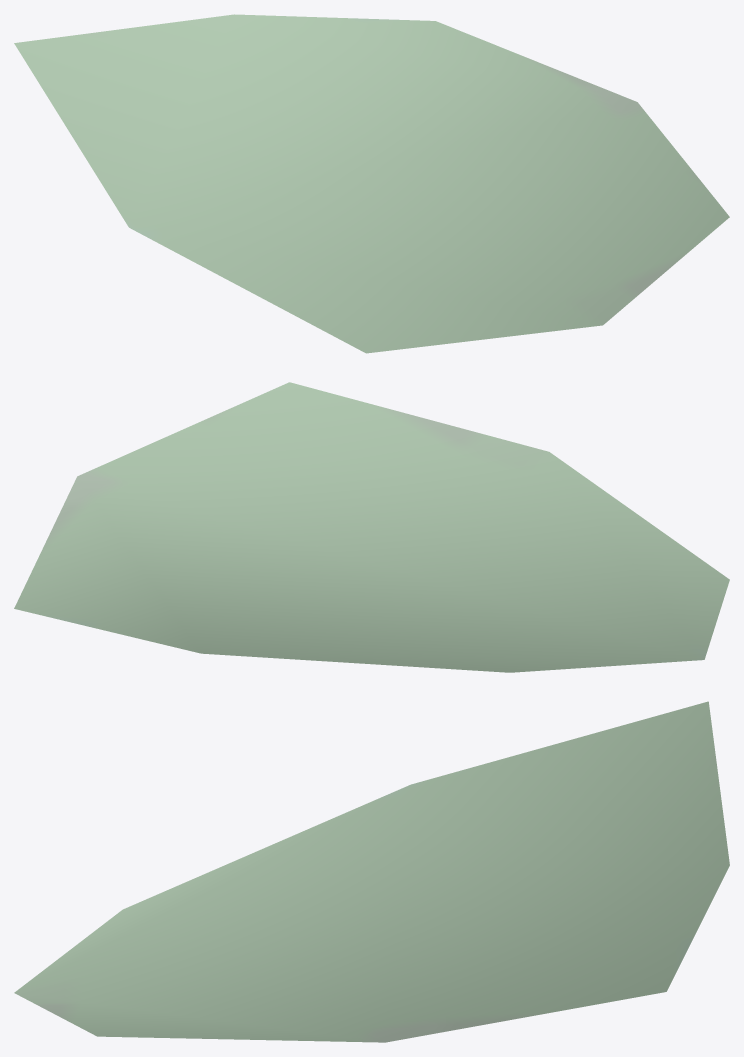
File: TROLLHOLE02_HOLECAP36.fbx
3 views of the same model, one above another, from view 1: azimuth 30°, elevation 25°; view 2: azimuth 150°, elevation 25°; view 3: azimuth 270°, elevation 25° (orthographic). The views are drawn at different scales.
Visible parts, largest first — view 1: TROLLHOLE02_HOLECAP36; view 2: TROLLHOLE02_HOLECAP36; view 3: TROLLHOLE02_HOLECAP36.
Boxes of the visible parts, x1=… form: TROLLHOLE02_HOLECAP36: x1=14, y1=14, x2=729, y2=353; TROLLHOLE02_HOLECAP36: x1=14, y1=382, x2=729, y2=672; TROLLHOLE02_HOLECAP36: x1=14, y1=701, x2=729, y2=1042.
Bounding box in the file's own units: 29091 × 7898 × 32344.
Materials: 1 (1 with a texture image).
